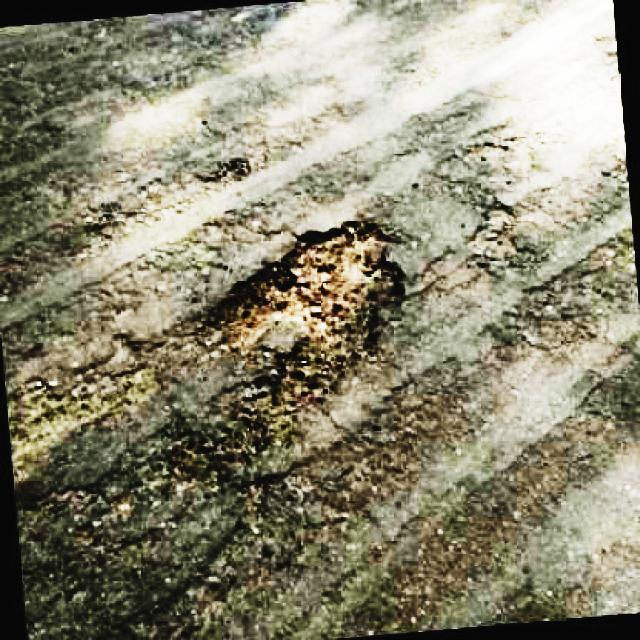pothole: (194, 214, 409, 401)
